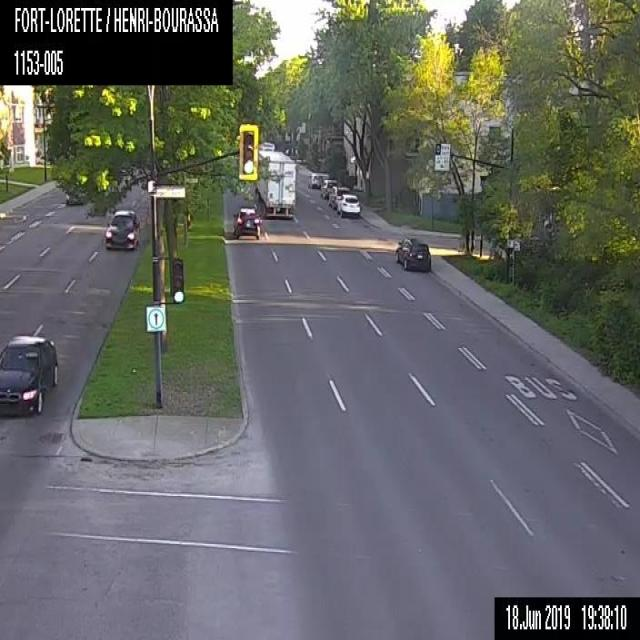vehicle: (0, 331, 58, 418), (250, 147, 298, 217), (392, 232, 431, 272), (104, 207, 139, 249), (230, 204, 261, 240), (337, 193, 360, 217), (65, 187, 91, 205), (328, 186, 351, 205), (308, 172, 329, 189), (320, 178, 337, 197)
